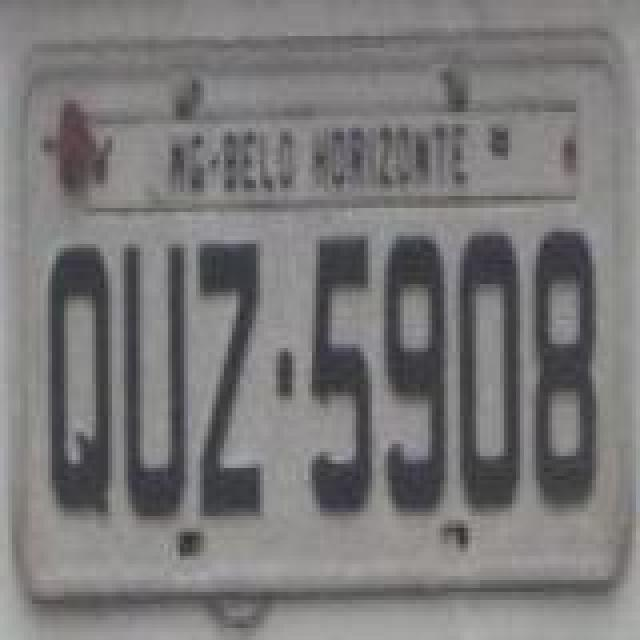5: (310, 226, 378, 526)
8: (534, 222, 602, 514)
9: (382, 232, 450, 520)
O: (454, 232, 522, 520)
Q: (46, 242, 114, 526)
U: (122, 238, 190, 530)
Z: (196, 238, 268, 522)
